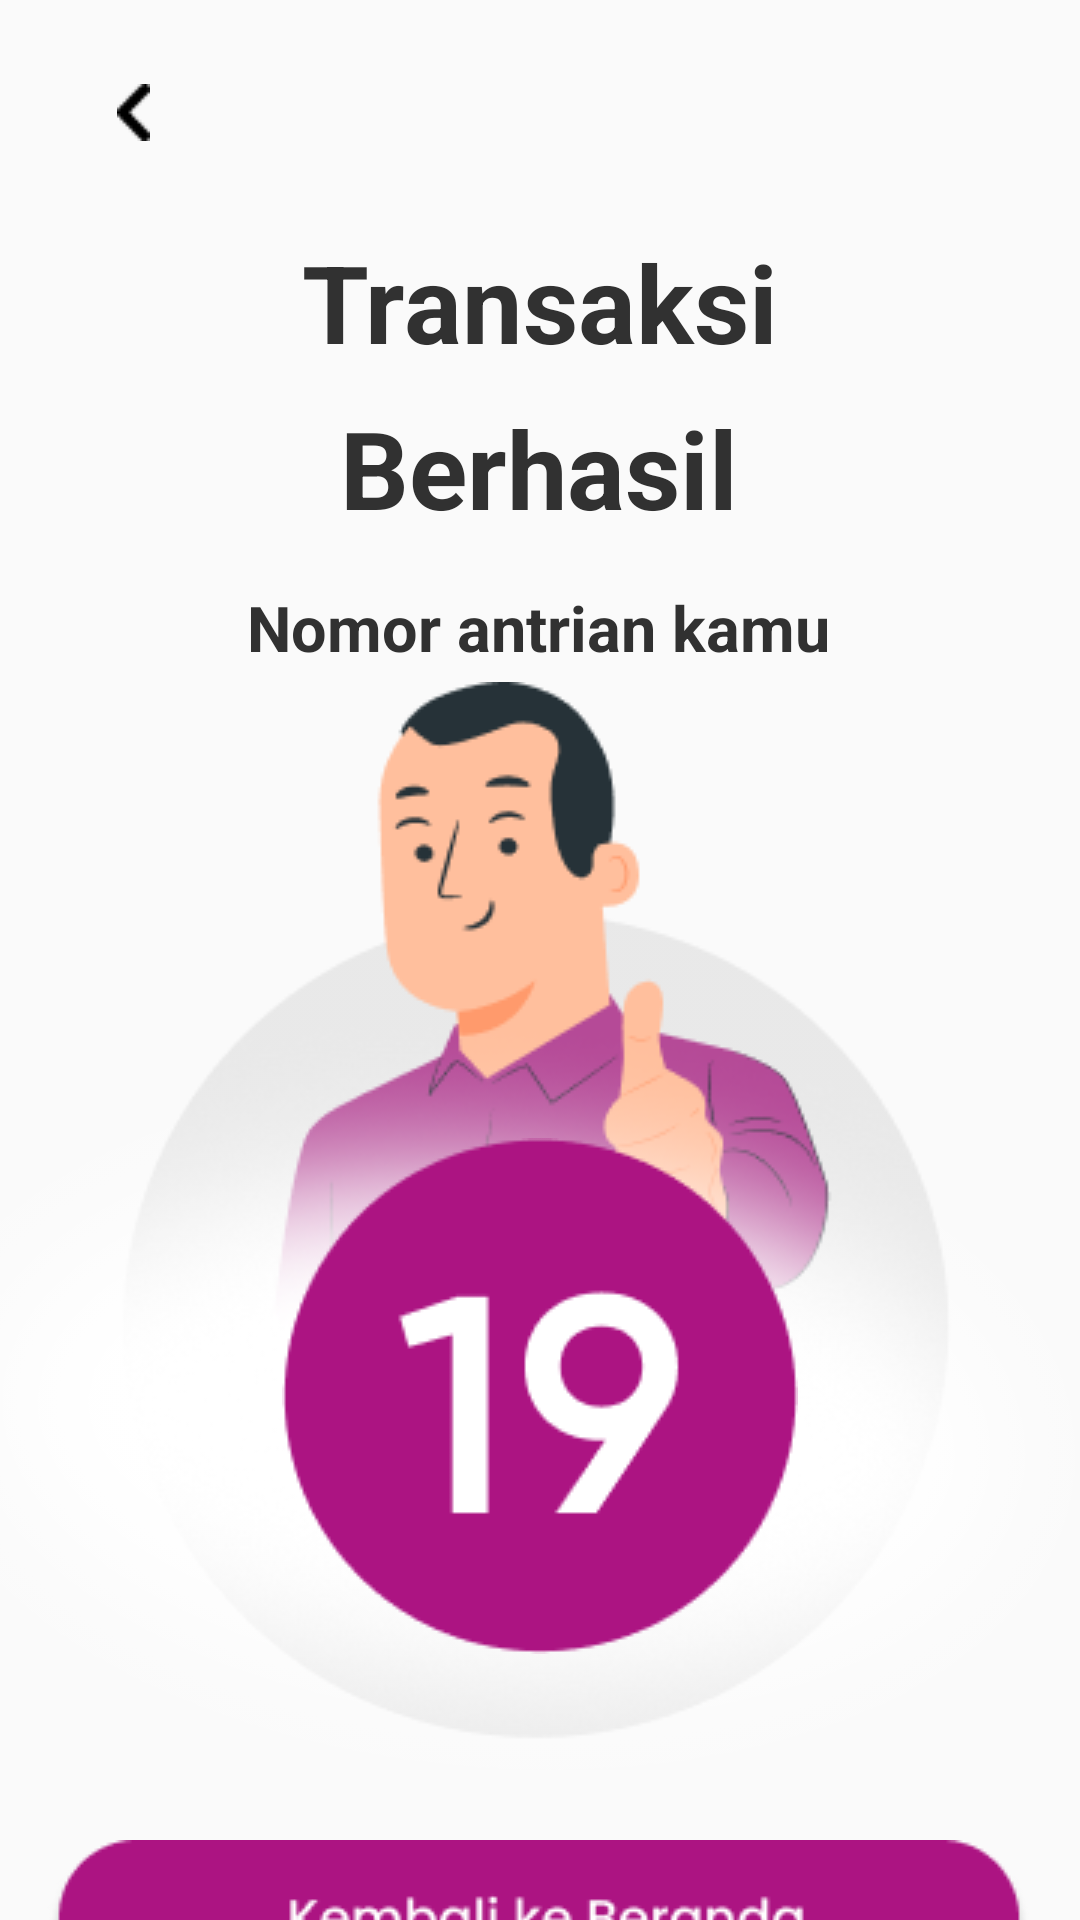

Screen size 1080 x 1920. Icon name, then its box in pixels as region(x1, y1, x2, y2):
backhitam: region(117, 84, 150, 141)
